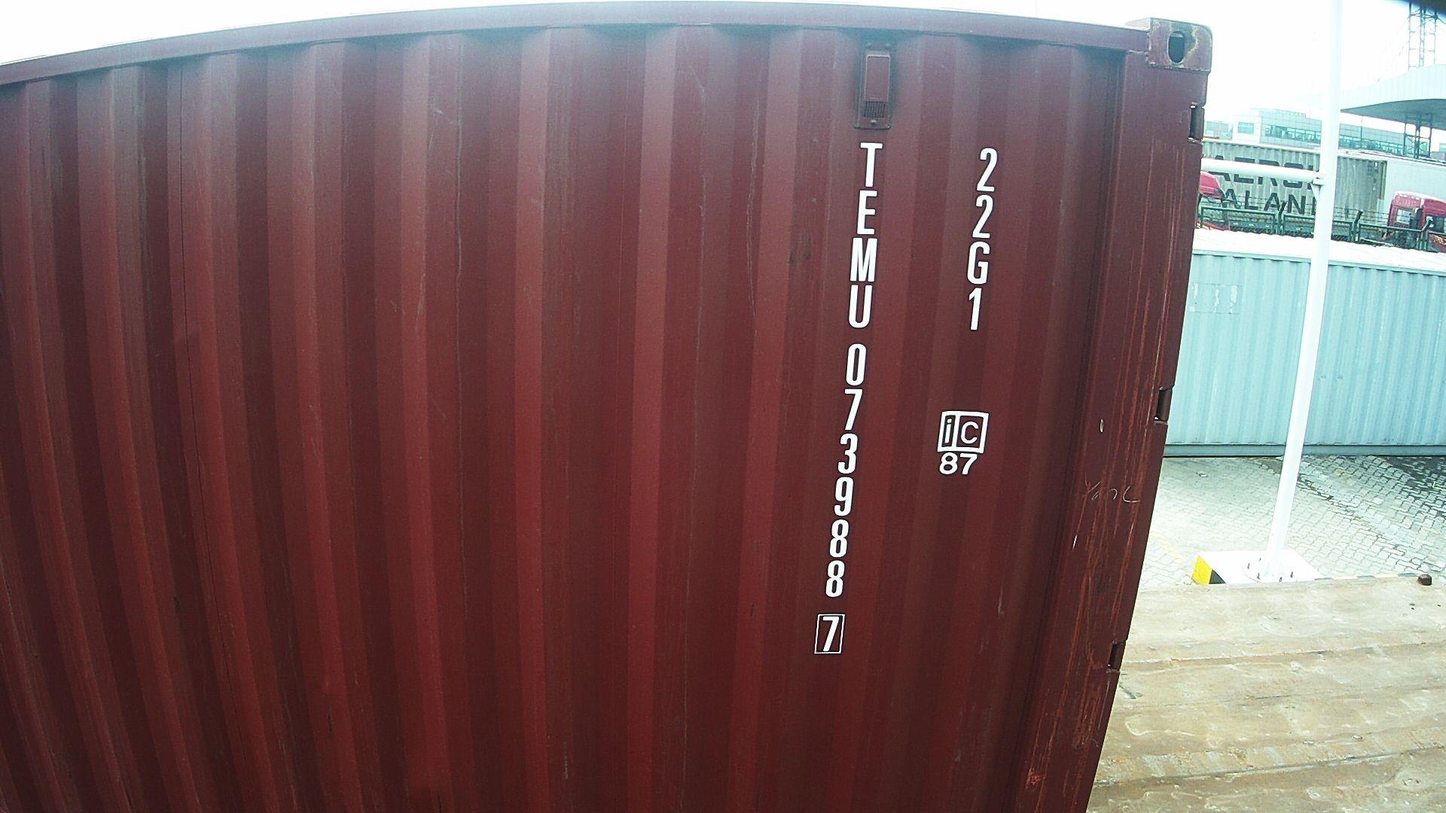container-numbers: (810, 135, 886, 662), (956, 142, 1002, 338)
